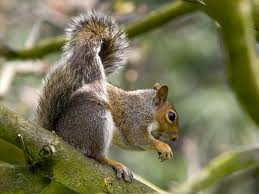squirrel: (46, 11, 181, 181)
